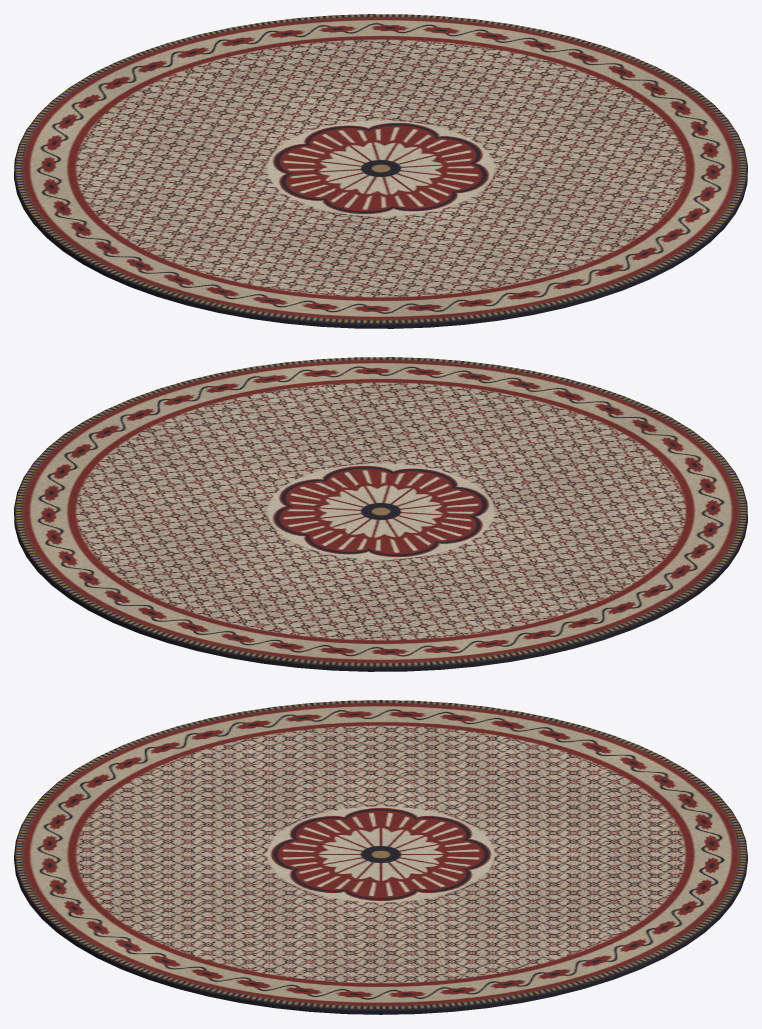
The model's file is Rug_Round.fbx.
3 views of the same model, one above another, from view 1: azimuth 30°, elevation 25°; view 2: azimuth 150°, elevation 25°; view 3: azimuth 270°, elevation 25° (orthographic).
Visible parts, largest first — view 1: Rug_Round; view 2: Rug_Round; view 3: Rug_Round.
Part boxes in pixels (x1,y1,x2,y2): Rug_Round: (14,14,747,328); Rug_Round: (14,357,747,671); Rug_Round: (14,700,747,1014).
Size of the model in its own units: 4.87 by 0.0386 by 4.87.
